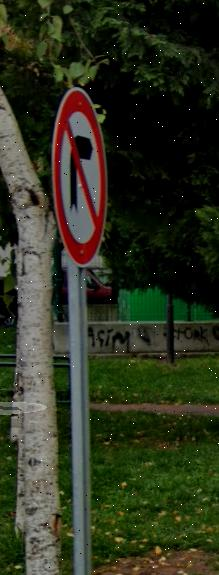rightturnsareforbidden: (54, 88, 114, 266)
